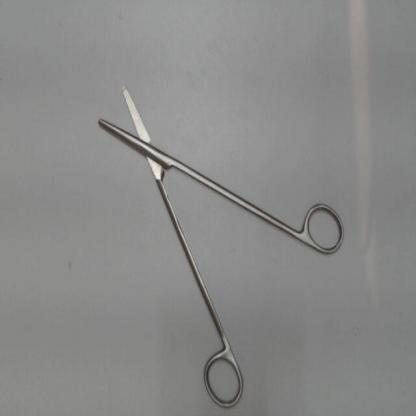9 Metzenbaum Scissors: (94, 74, 352, 413)
